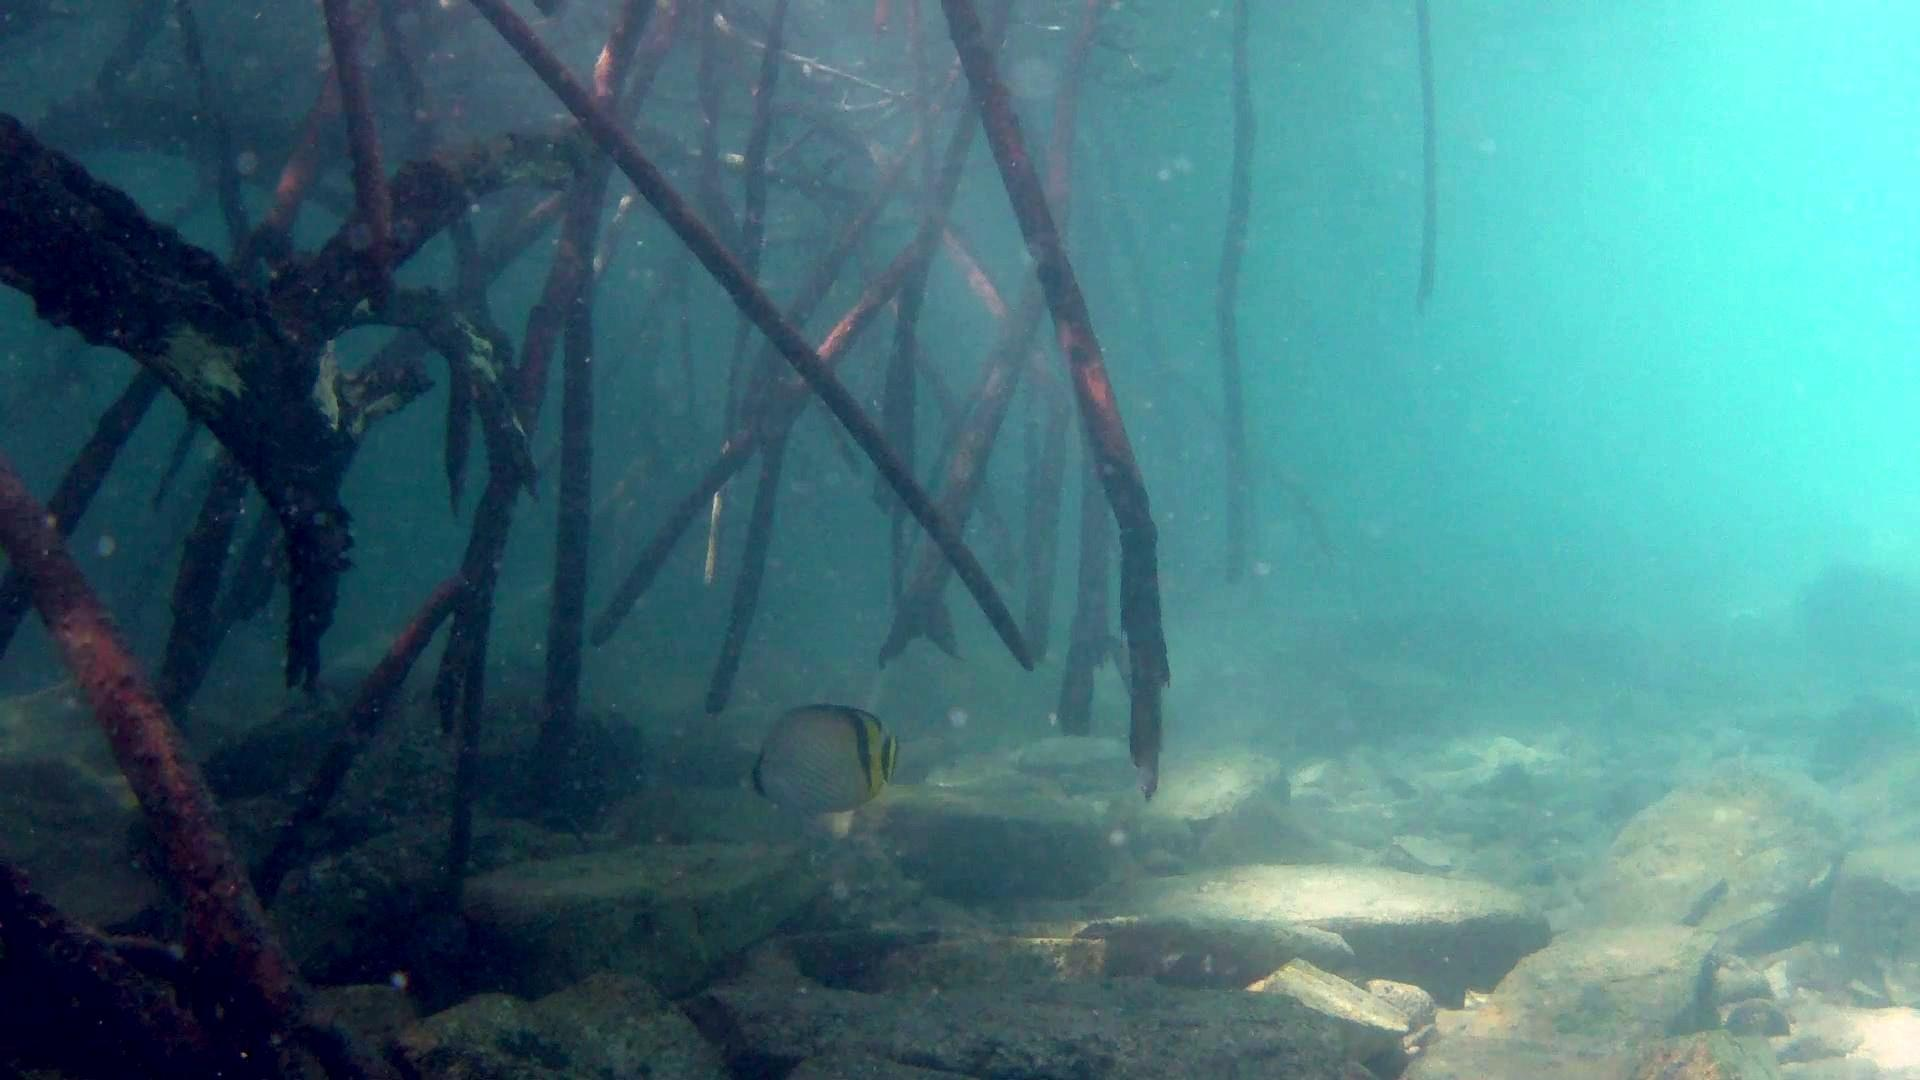chaetodon vagabundus: (738, 701, 900, 817)
